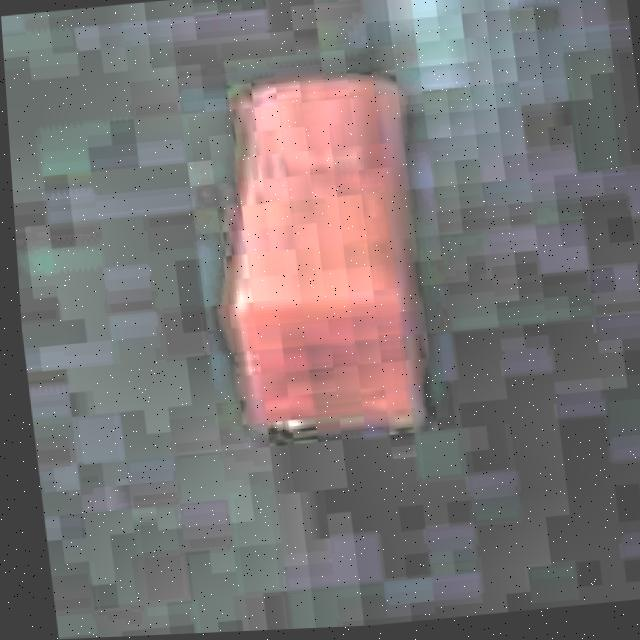bus: (195, 59, 453, 447)
